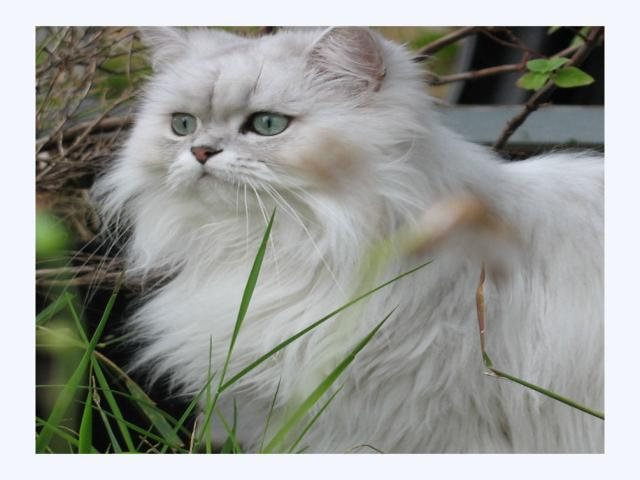Cat: (45, 25, 606, 454)
